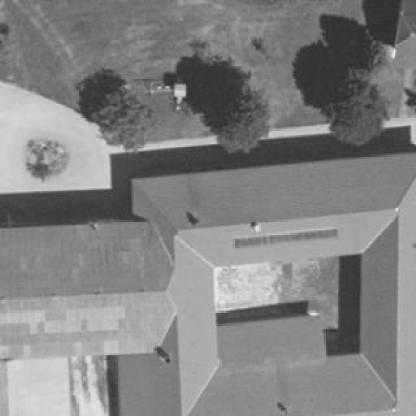solar-pv-panel: (233, 227, 337, 248)
